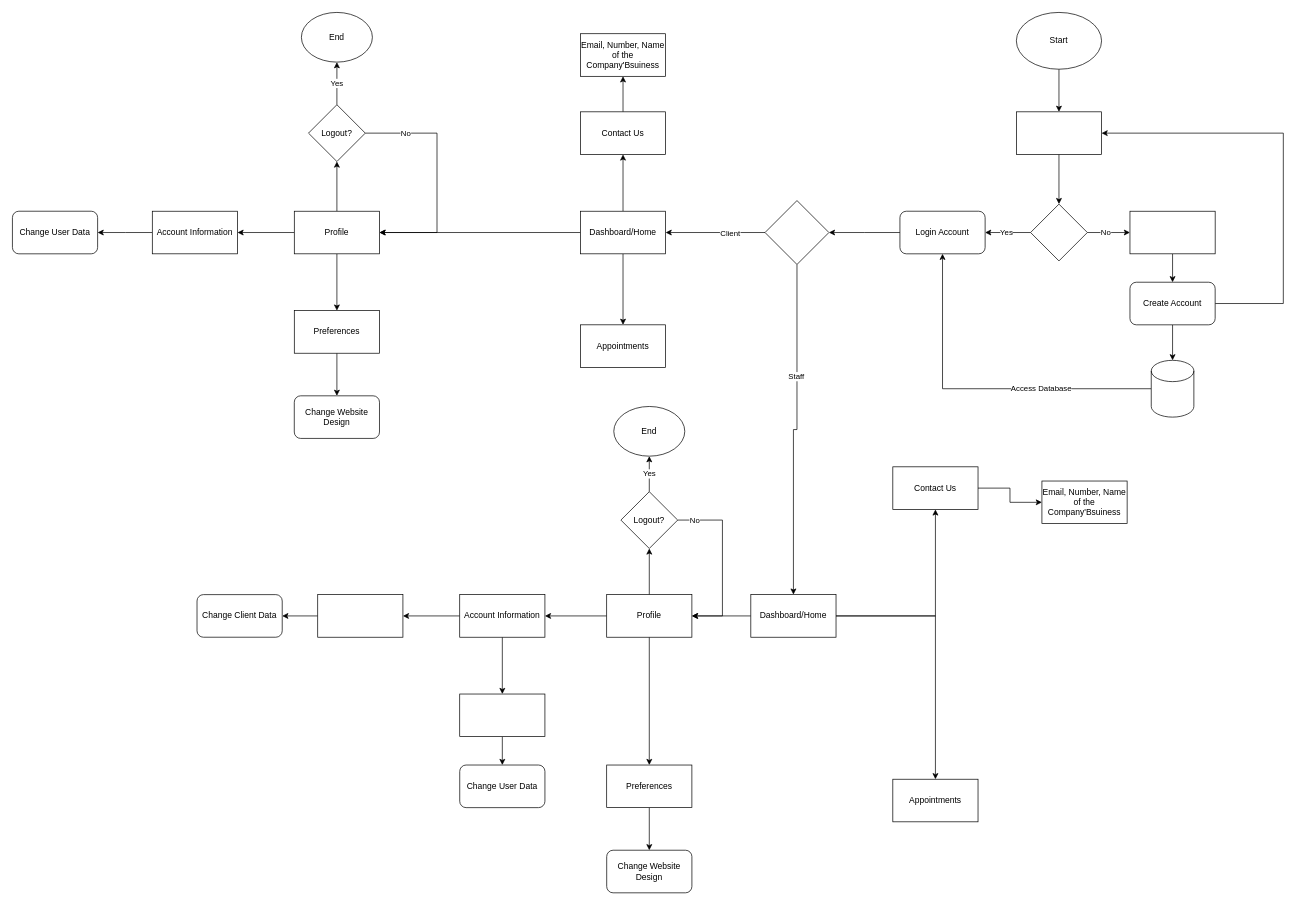
Some shapes in this 1301 by 905 pixel diagram are drawn without their labels. The shapes that lost their labels are listed below. From the top down, each one's centre as x and y in pixels, then its label:
At (1059,132): "Login Page".
At (796,232): "Client or Staff".
At (1058,232): "Have an Account?".
At (1172,232): "Register Page".
At (1172,388): "Database".
At (360,615): "Client Information".
At (502,715): "User Information".
